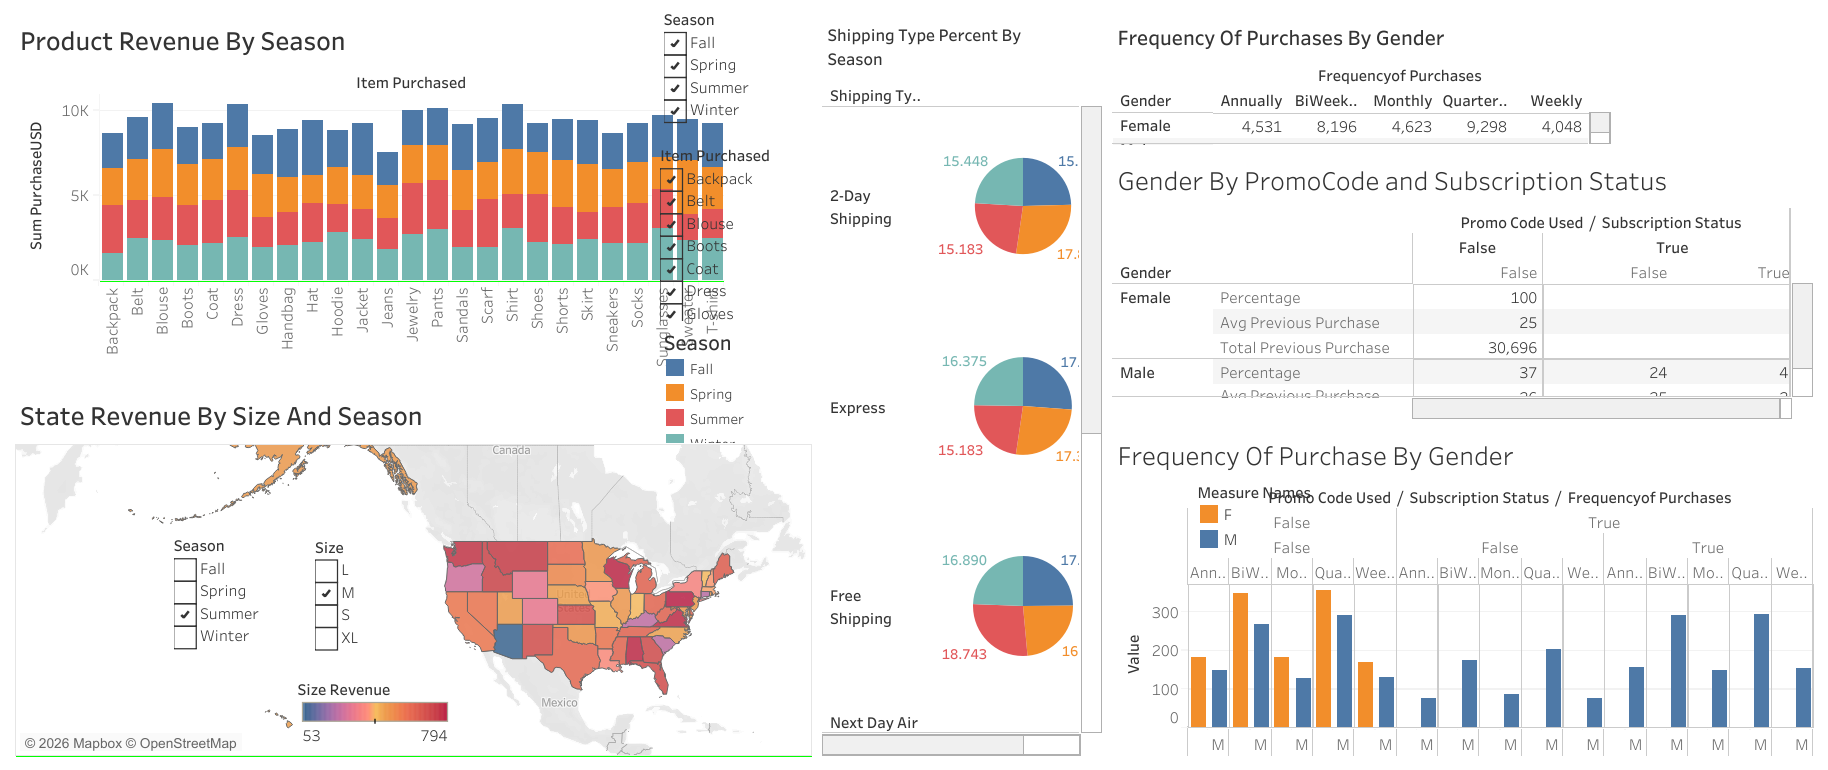

What the dashboard file says about the page in this screenshot:
{"tool":"tableau","page":{"name":"Dashboard 1","canvas":[1000,1000],"units":"permille","ordinal":0},"visuals":[{"type":"filter","title":"ProductRevenueBySeason","param":"[federated.1vhzd3b104yo0z14twvdg1fsvm85].[none:Season:nk]","box":[362.9,7.5,62.3,181]},{"type":"worksheet","title":"ProductRevenueBySeason","mark":"Automatic","rows":["Sum_PurchaseUSD"],"cols":["ItemPurchased"],"box":[4.9,10,442.3,489.8]},{"type":"worksheet","title":"ShipTypePercSeason","mark":"Pie","rows":["ShippingType"],"box":[447.2,10,158.8,980]},{"type":"worksheet","title":"GenderSUMofFP","mark":"Automatic","rows":["Gender"],"cols":["FrequencyofPurchases"],"box":[606,10,389.1,182.1]},{"type":"filter","title":"ProductRevenueBySeason","param":"[federated.1vhzd3b104yo0z14twvdg1fsvm85].[none:ItemPurchased:nk]","box":[361,184.8,72.7,232.2]},{"type":"worksheet","title":"GenderPercent_PPSS","mark":"Automatic","rows":["Gender"],"cols":["PromoCodeUsed","SubscriptionStatus"],"box":[606,192.1,389.1,359.8]},{"type":"legend","title":"ProductRevenueBySeason","param":"[federated.1vhzd3b104yo0z14twvdg1fsvm85].[none:Season:nk]","box":[362.2,422,79.4,151.1]},{"type":"worksheet","title":"StateSeasonSizeRevenue","mark":"Automatic","box":[4.9,499.8,442.3,490.2]},{"type":"worksheet","title":"GenderFPPCSS","mark":"Automatic","cols":["PromoCodeUsed","SubscriptionStatus","FrequencyofPurchases"],"box":[606,551.8,389.1,438.2]},{"type":"legend","title":"GenderFPPCSS","param":"[federated.1jvoeqs0jn0vh917rulfi1xcywls].[:Measure Names]","box":[654.2,619.2,92.9,106.1]},{"type":"filter","title":"StateSeasonSizeRevenue","param":"[federated.0egujx00g7vsj217q7mvd1w4k4wj].[none:Season:nk]","box":[95.3,690.4,61.1,188.5]},{"type":"filter","title":"StateSeasonSizeRevenue","param":"[federated.0egujx00g7vsj217q7mvd1w4k4wj].[none:Size (Location_Size_Season_Revenu","box":[172.3,691.6,56.2,182.3]},{"type":"legend","title":"StateSeasonSizeRevenue","param":"[federated.0egujx00g7vsj217q7mvd1w4k4wj].[sum:Revenue_USD (Location_Size_Season_","box":[162.5,872.7,85.5,109.9]}]}

Visuals, with their boxes on the dashboard's canvas, which has no fixed pixel size, in thousandths of its width and height (x1, y1, x2, y2). These are canvas units, not pixel positions in the 1828x770 screenshot, which may show the page scaled, cropped or inside an application window:
"ProductRevenueBySeason" filter: 363, 8, 425, 188
"ProductRevenueBySeason" worksheet: 5, 10, 447, 500
"ShipTypePercSeason" worksheet (Pie marks): 447, 10, 606, 990
"GenderSUMofFP" worksheet: 606, 10, 995, 192
"ProductRevenueBySeason" filter: 361, 185, 434, 417
"GenderPercent_PPSS" worksheet: 606, 192, 995, 552
"ProductRevenueBySeason" legend: 362, 422, 442, 573
"StateSeasonSizeRevenue" worksheet: 5, 500, 447, 990
"GenderFPPCSS" worksheet: 606, 552, 995, 990
"GenderFPPCSS" legend: 654, 619, 747, 725
"StateSeasonSizeRevenue" filter: 95, 690, 156, 879
"StateSeasonSizeRevenue" filter: 172, 692, 228, 874
"StateSeasonSizeRevenue" legend: 162, 873, 248, 983
